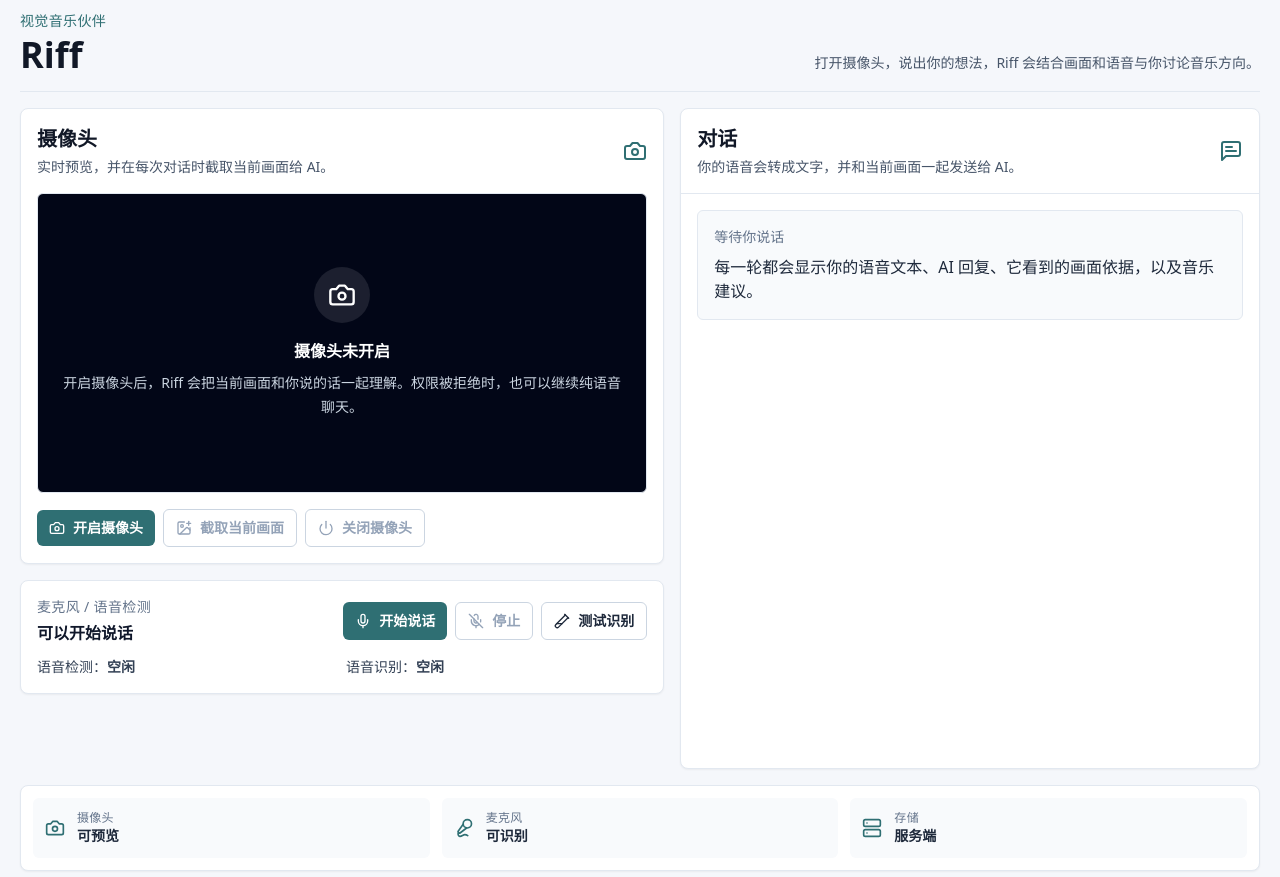
home chat flow › renders fallback-ready reference tracks as non-exportable playable audio
Click the button "测试识别".
click(594, 621)  # box [541,602,647,640]
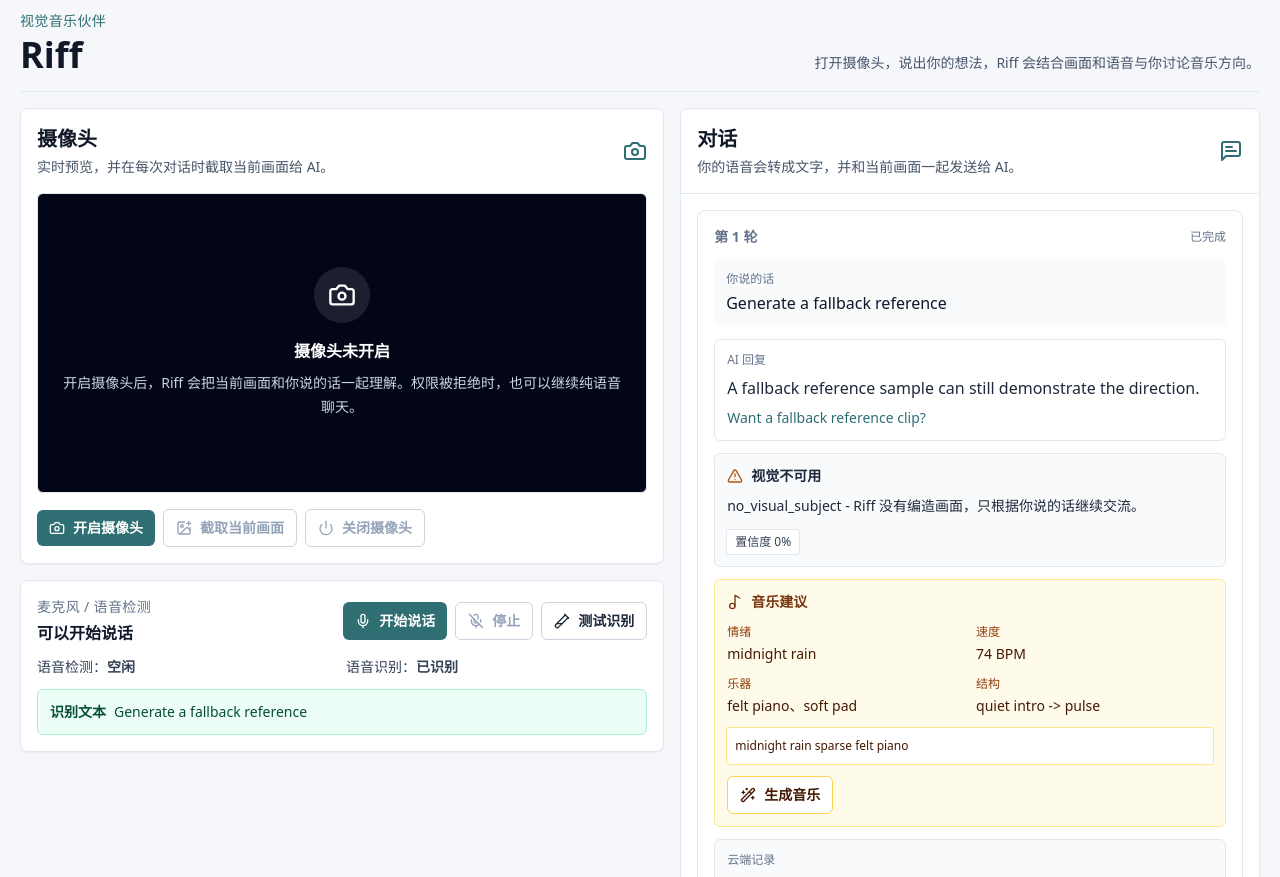
Click the button "生成音乐".
click(780, 795)  # box [727,776,833,814]
(page scrolled)
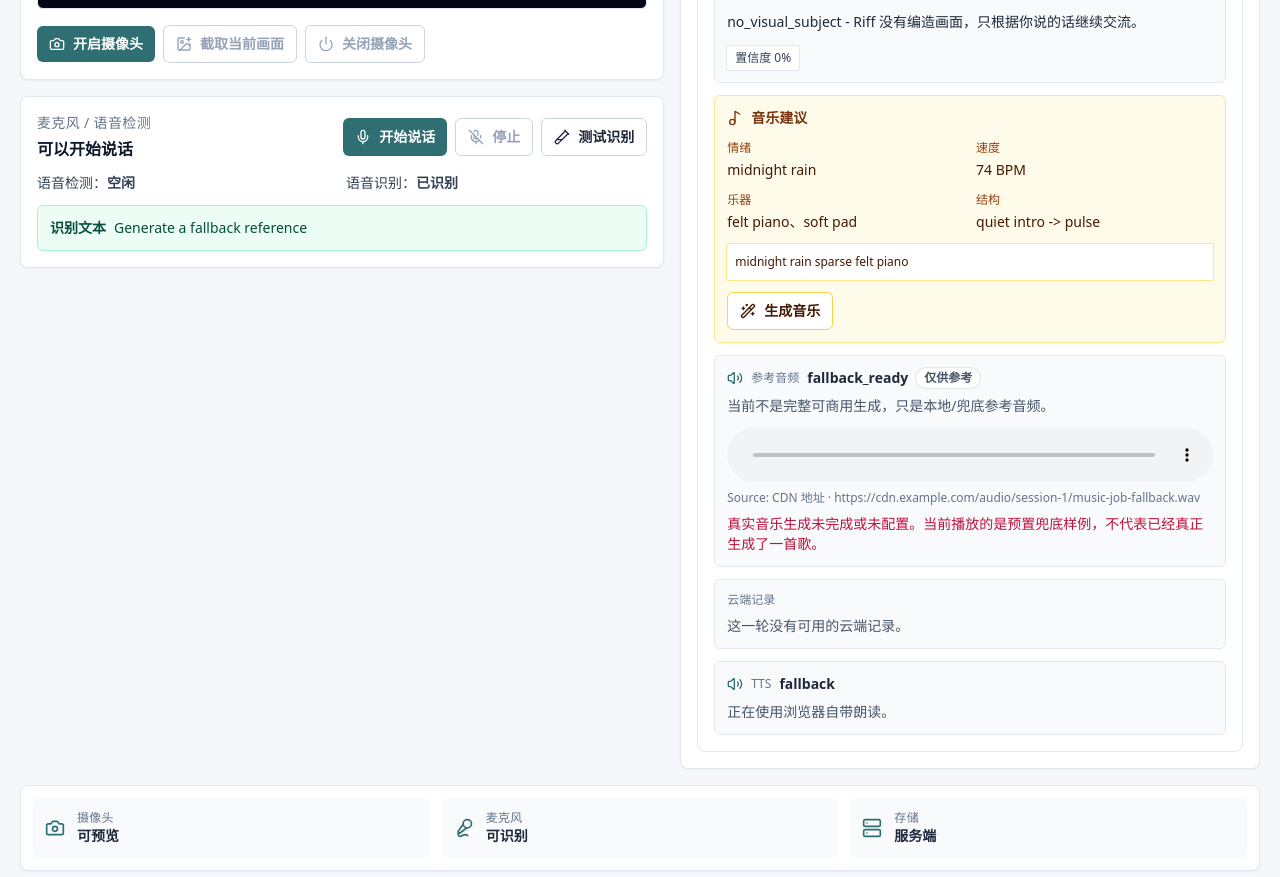
Result: the text "fallback_ready" is shown at [807,368,908,388]
Result: the text "仅供参考" is shown at [916,368,980,388]
Result: the text "当前不是完整可商用生成，只是本地/兜底参考音频" is shown at [727,396,1054,415]
